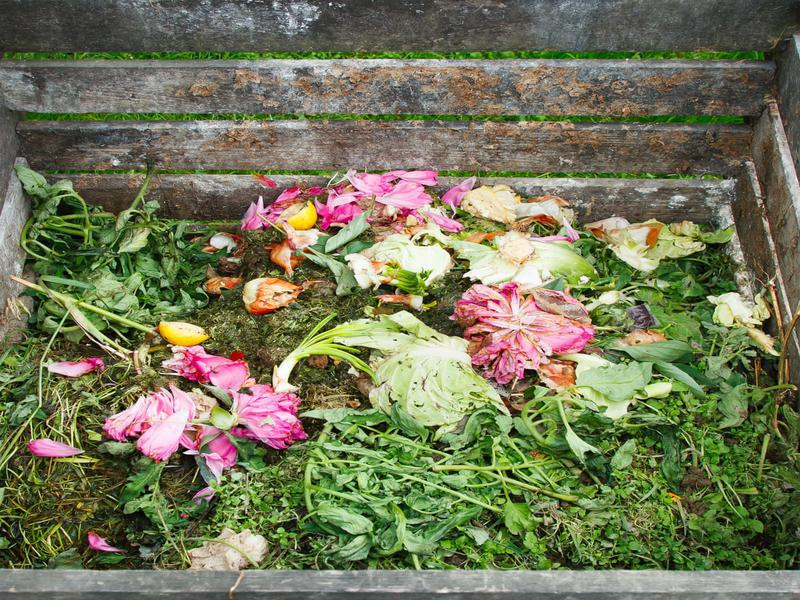flowers: (238, 165, 782, 382), (24, 347, 311, 474)
leaf: (10, 156, 227, 354)
